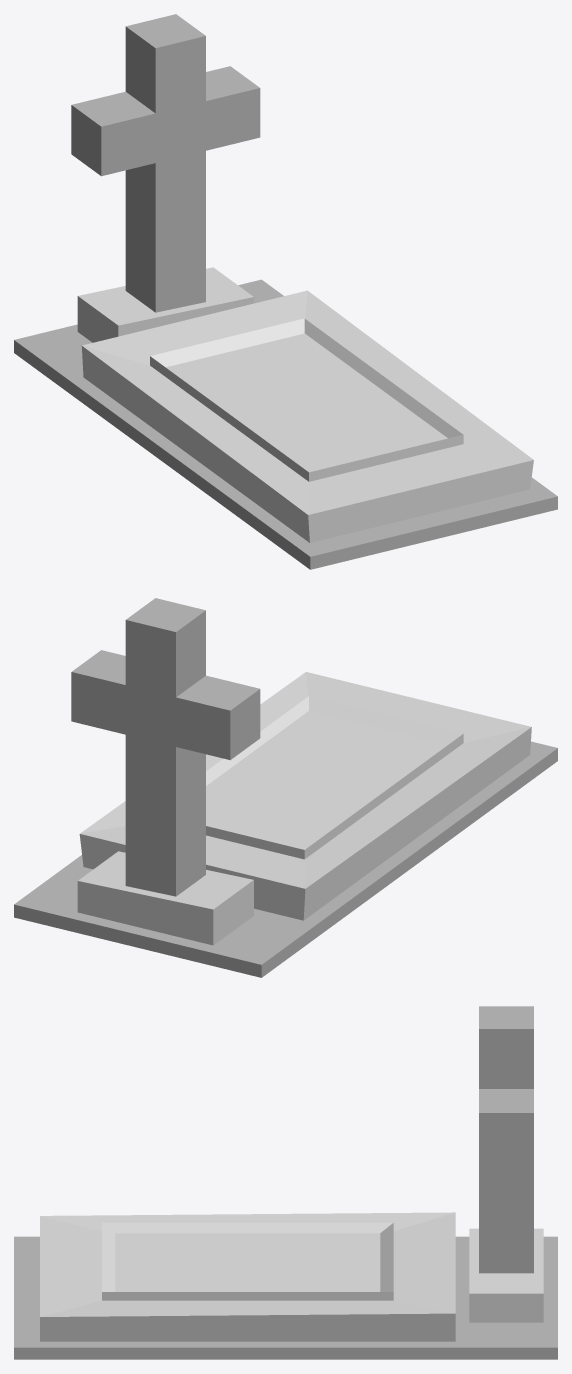
File: HWN20_Grave_31.glb
3 renders of one model, top to bottom at view 1: azimuth 30°, elevation 25°; view 2: azimuth 150°, elevation 25°; view 3: azimuth 270°, elevation 25°, orthographic. The views are drawn at different scales.
Parts seen in each view (by area): view 1: HWN20_Grave_31; view 2: HWN20_Grave_31; view 3: HWN20_Grave_31.
Boxes of the visible parts, x1,y1,x2,y2 form: HWN20_Grave_31: (14, 14, 557, 569); HWN20_Grave_31: (14, 598, 557, 977); HWN20_Grave_31: (14, 1006, 557, 1359).
Size of what is drawn, in the model's own units: 0.9895 by 1.19 by 2.05.
1 material, 1 textured.
